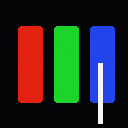4 line_v: (98, 63, 102, 123)
